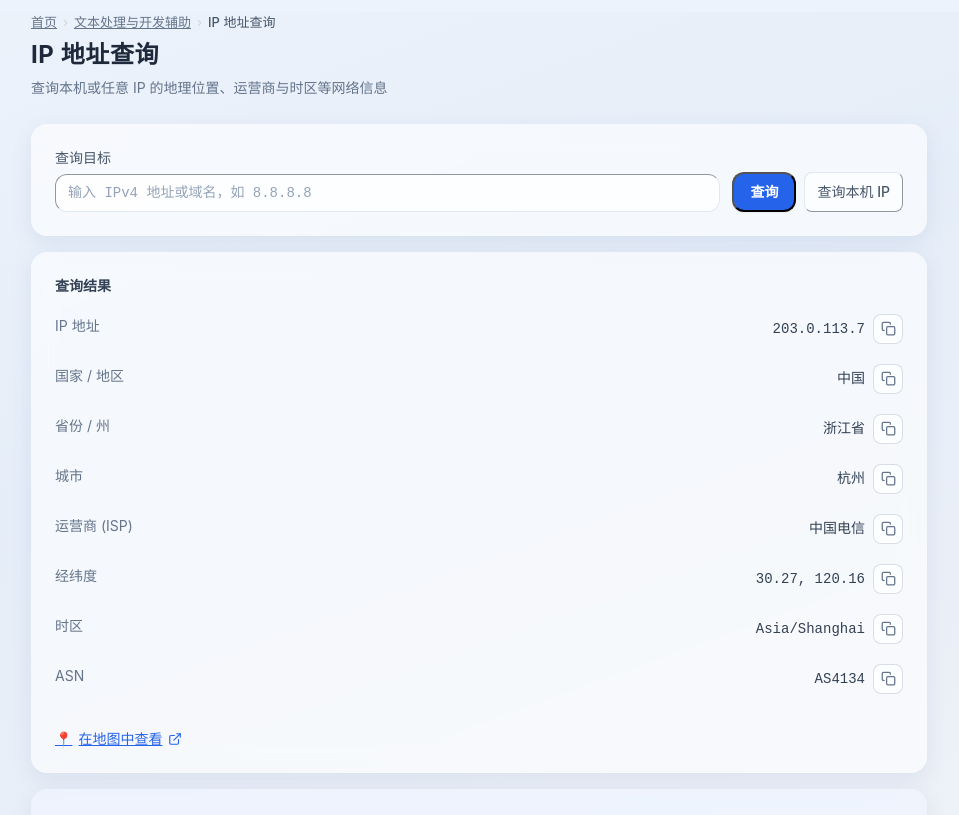
Test case: IpLookup 组件测试（网络层 mock） › 手动输入非法 IP 显示校验错误
Type "not-an-ip" into the field labelled "查询目标". click: (388, 193)
box: left=55, top=174, right=720, bottom=212
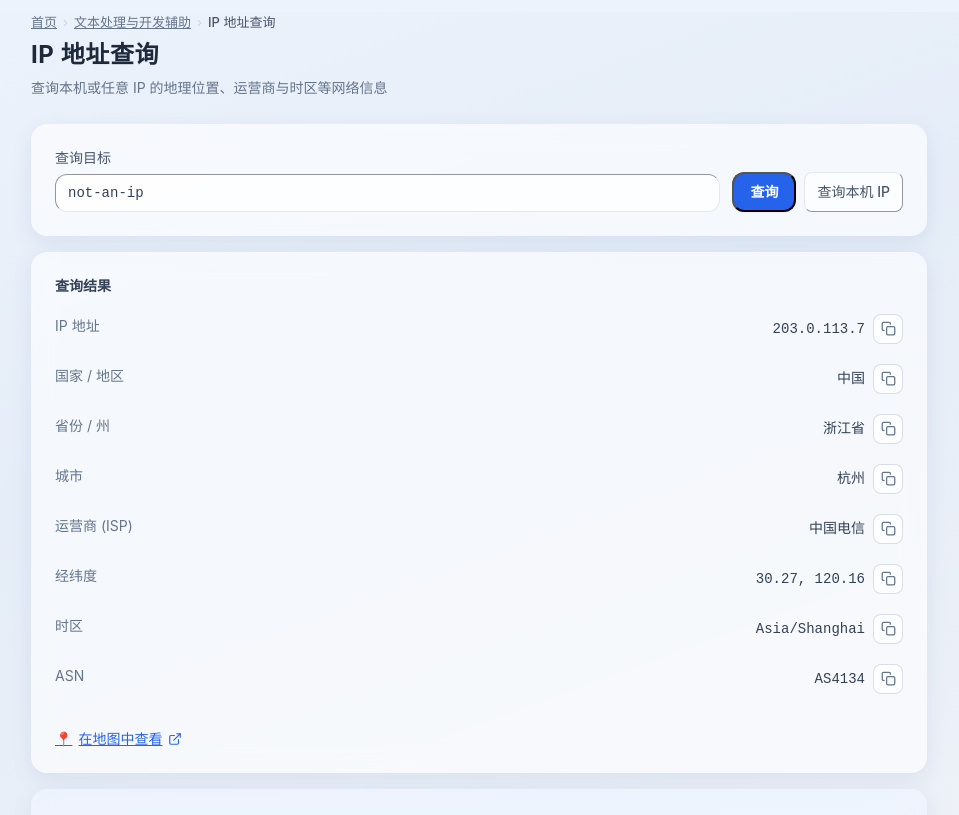
Click the button "查询". click: click(764, 192)
box: left=732, top=172, right=796, bottom=212
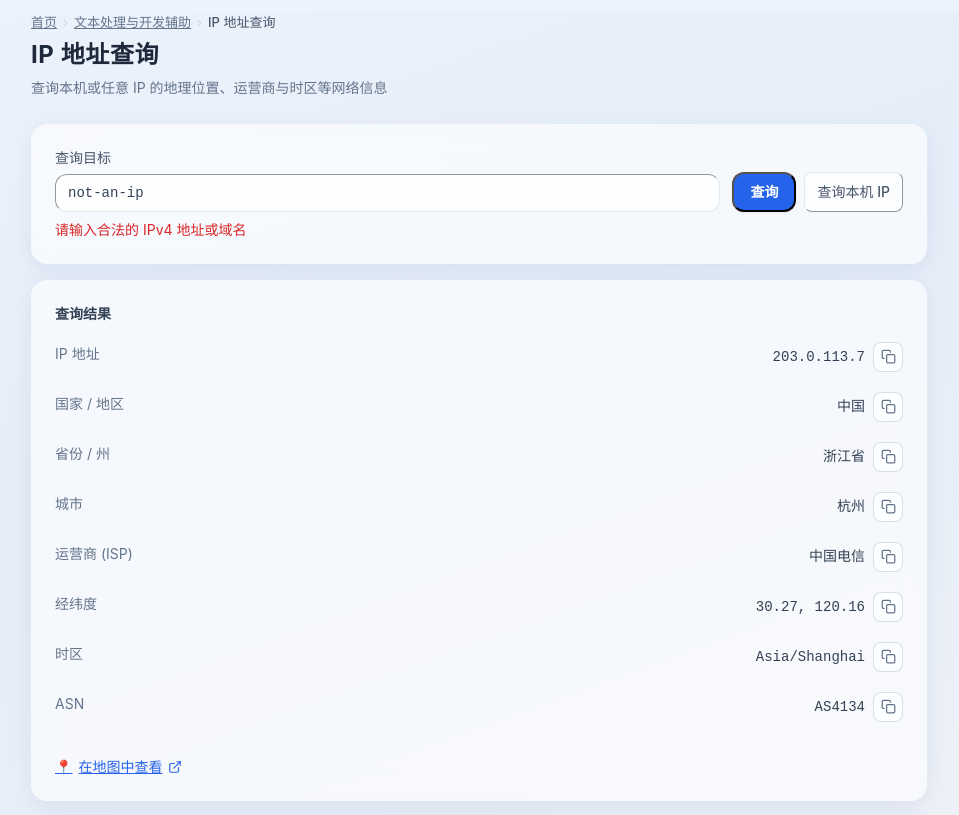
Expected: the text "请输入合法的 IPv4 地址或域名" is shown, left=55, top=221, right=246, bottom=238
